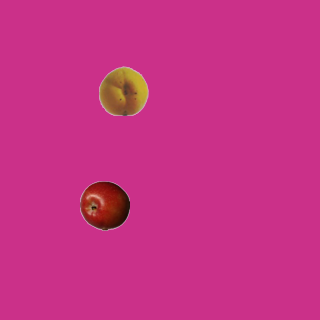Apple Braeburn: (79, 180, 129, 230)
Peach 2: (98, 65, 148, 115)
